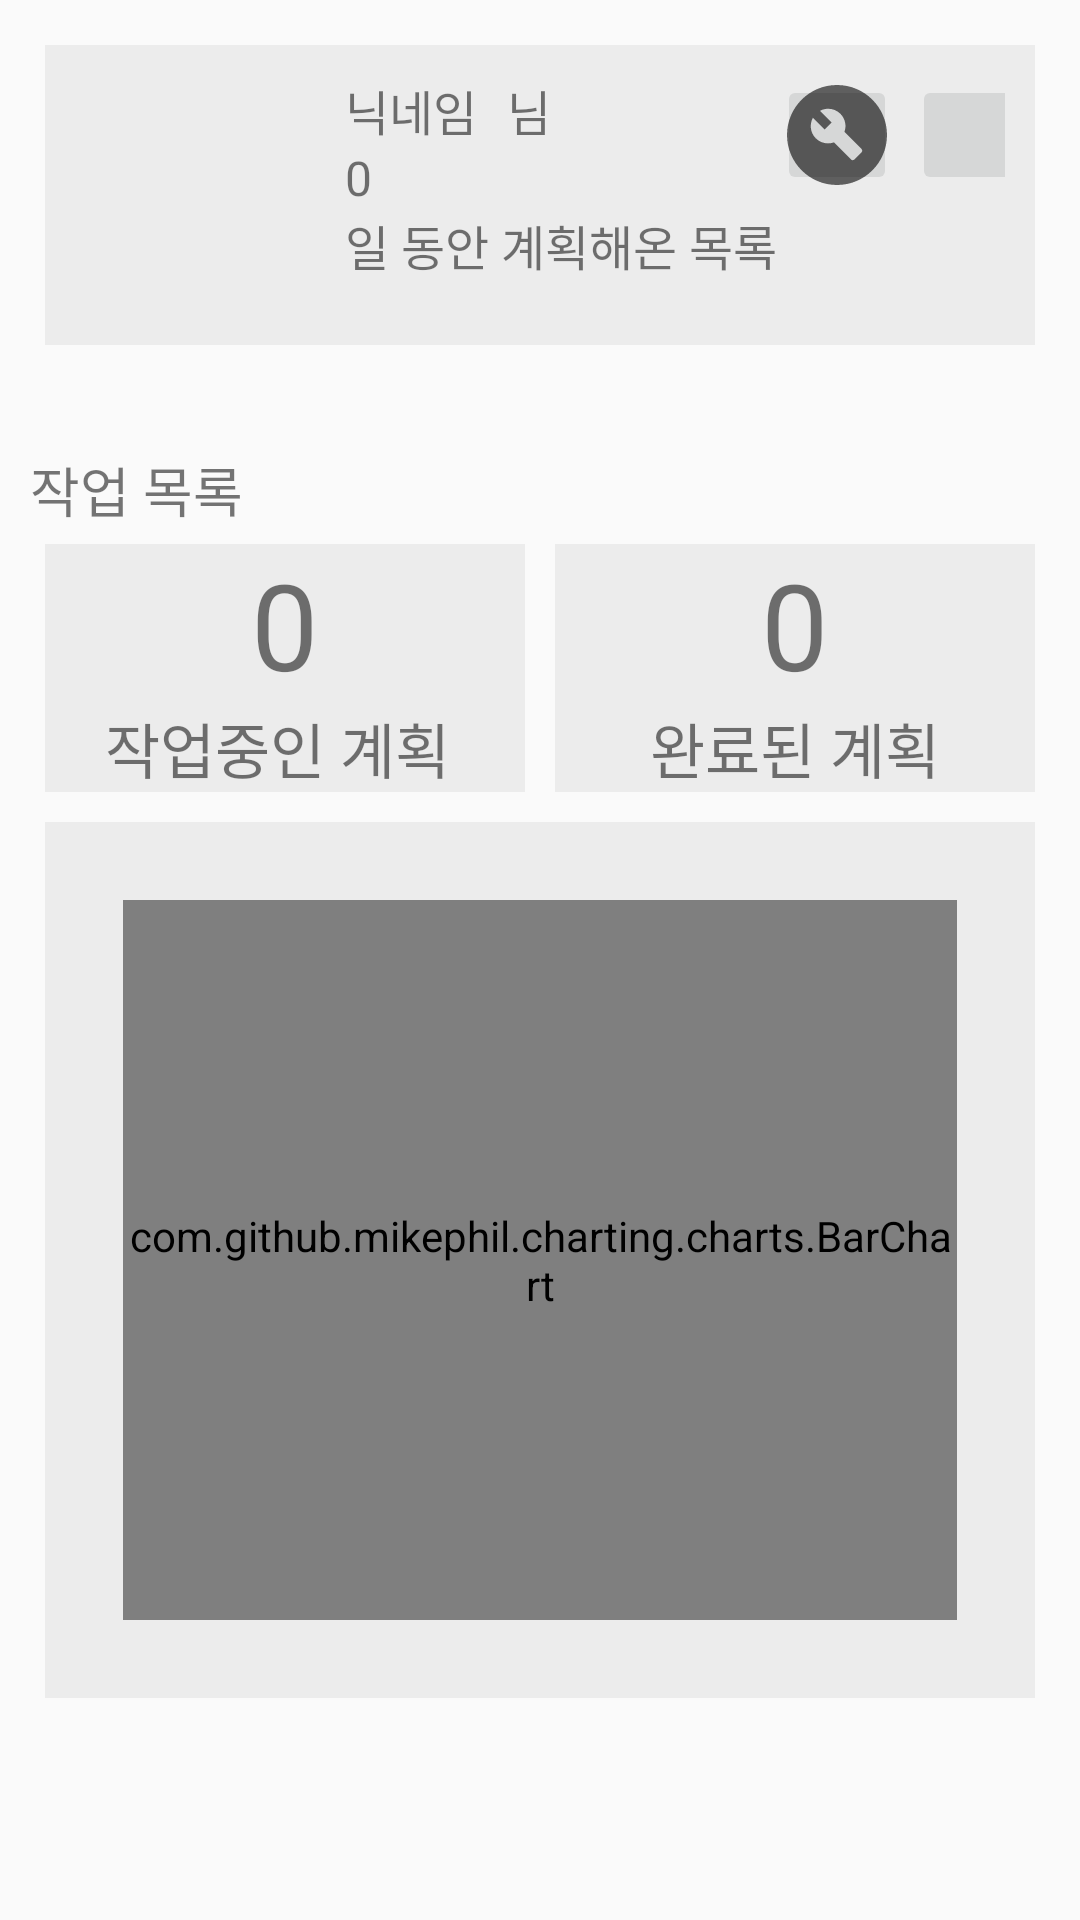

Screen size 1080 × 1920. Icon name, then its box in pixels as (x1, y1, x2, y2):
fix: (787, 85, 887, 185)
